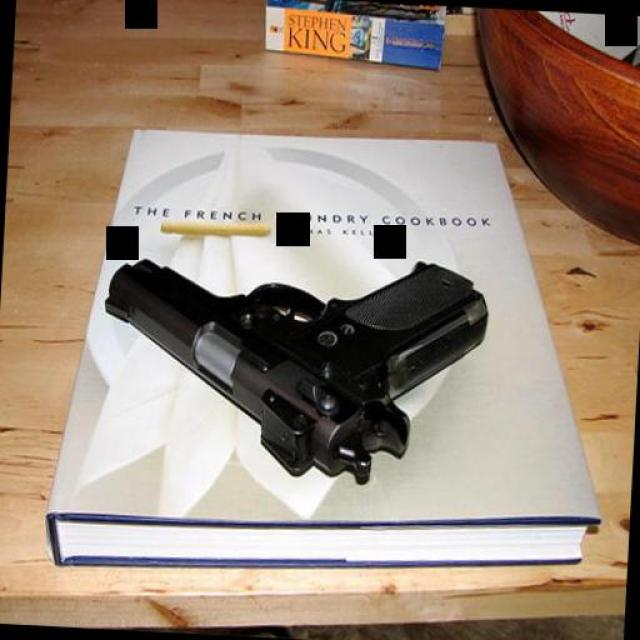gun: (91, 240, 489, 486)
